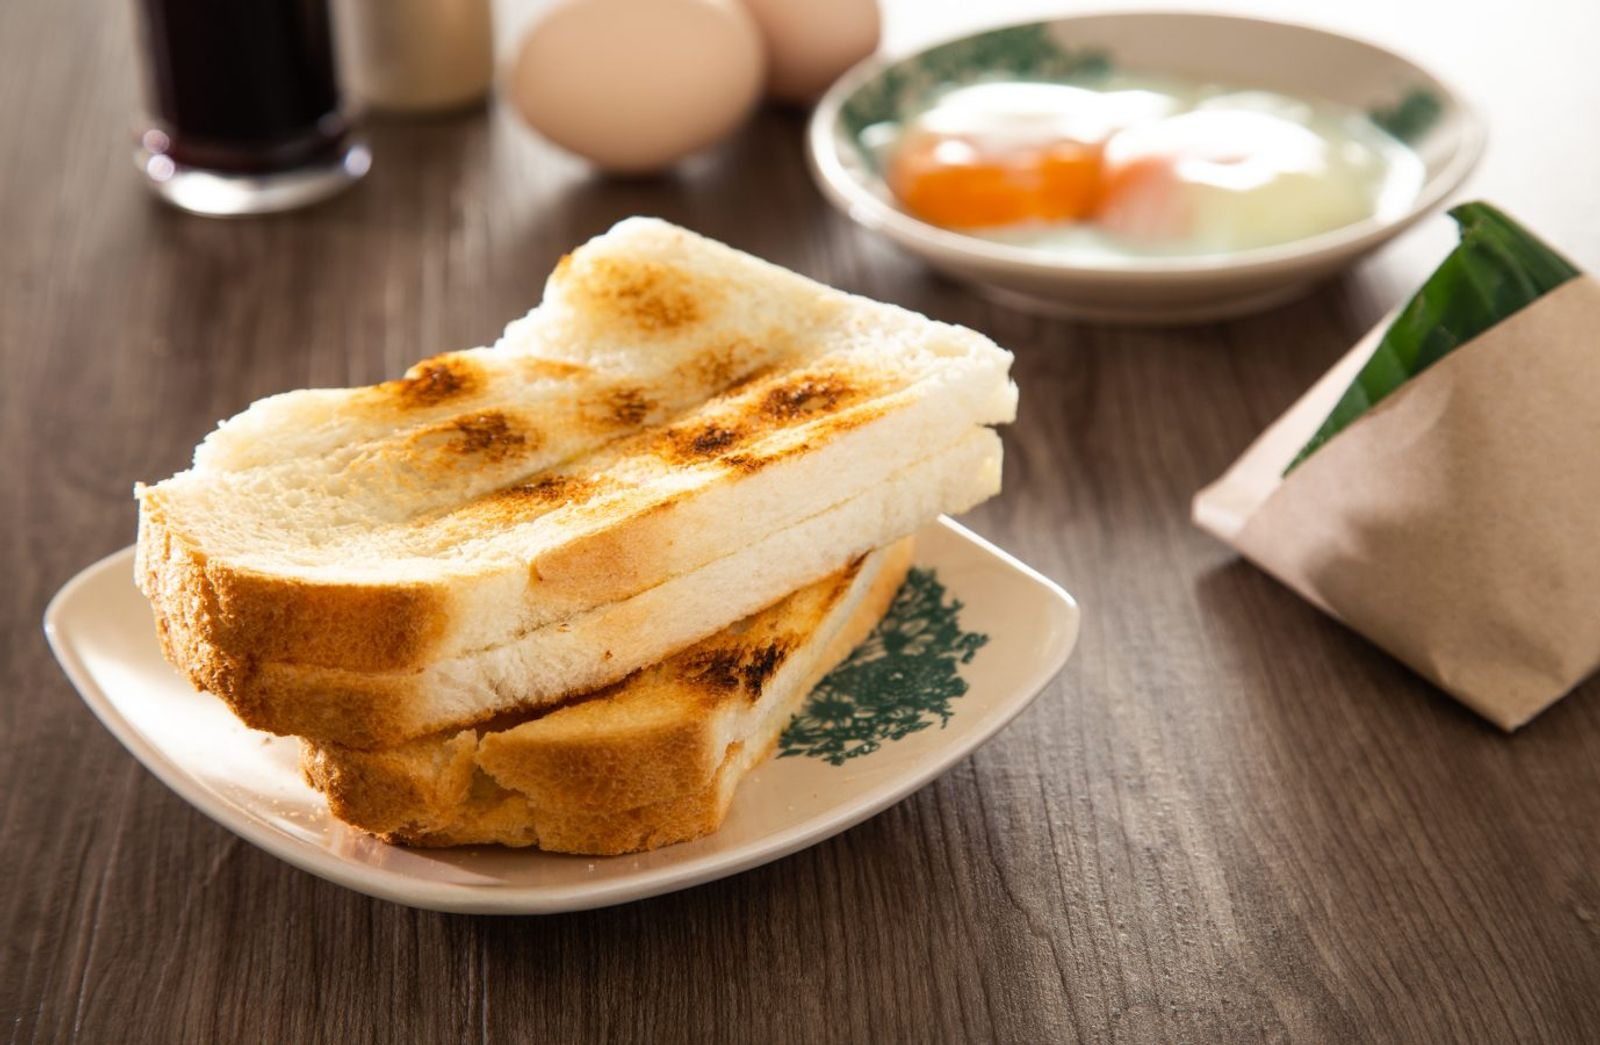Toast: (141, 209, 1017, 745)
